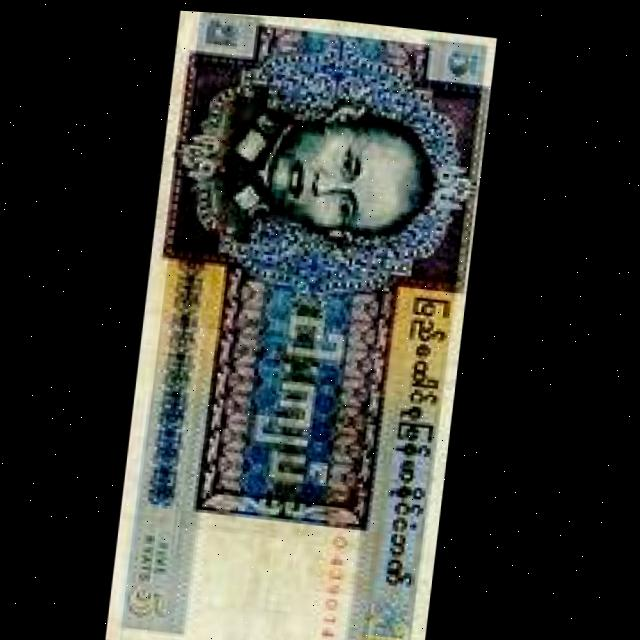banknote: (112, 7, 499, 640)
